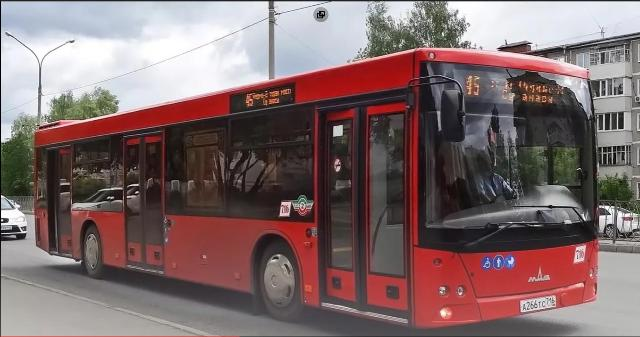bus: (31, 45, 605, 331)
